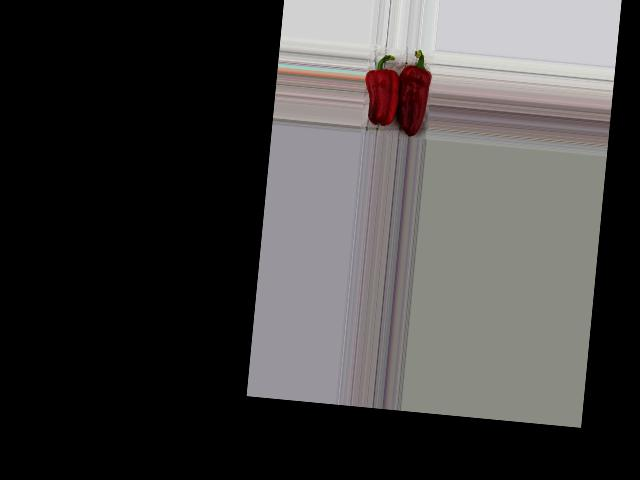bell_pepper: (393, 45, 433, 137)
